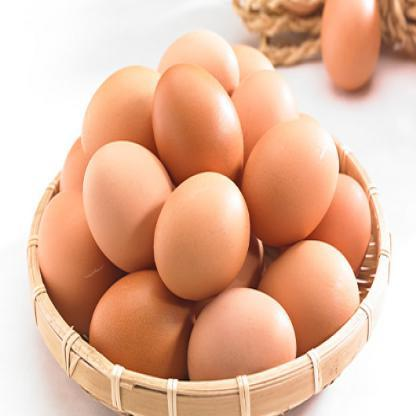egg: (245, 93, 344, 250), (152, 56, 248, 198), (78, 139, 172, 278), (178, 294, 307, 395), (150, 170, 245, 303), (80, 268, 200, 370), (260, 239, 366, 353), (76, 64, 191, 165), (33, 180, 108, 322), (316, 0, 393, 100)
